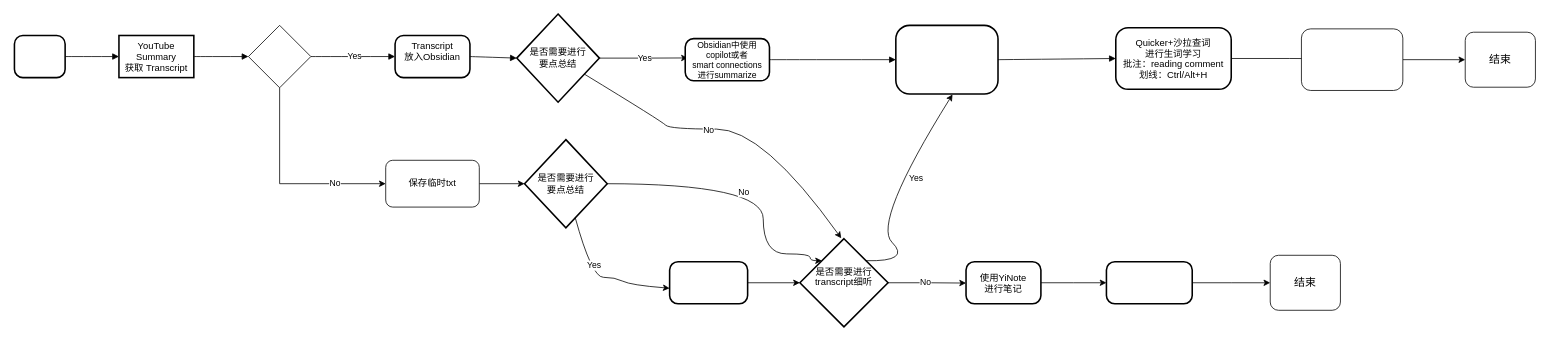
This 1549x341 diagram has some shape labels left out. Each missing label, with the centre of its shape:
"Start" goes at (x=39, y=56).
"transcript.txt 扔给任意大模型" goes at (x=708, y=282).
"使用meida-extended 对照Transcript进行 note-taking,生词要点 还可以进行划线批注" goes at (x=946, y=59).
"形成的笔记 摘取的片段 可以作为其他创作材料" goes at (x=1352, y=59).
"形成的笔记通过 不加密链接分享 至Obsidian" goes at (x=1149, y=282).
"视频内容 是否重要" goes at (x=279, y=56).
